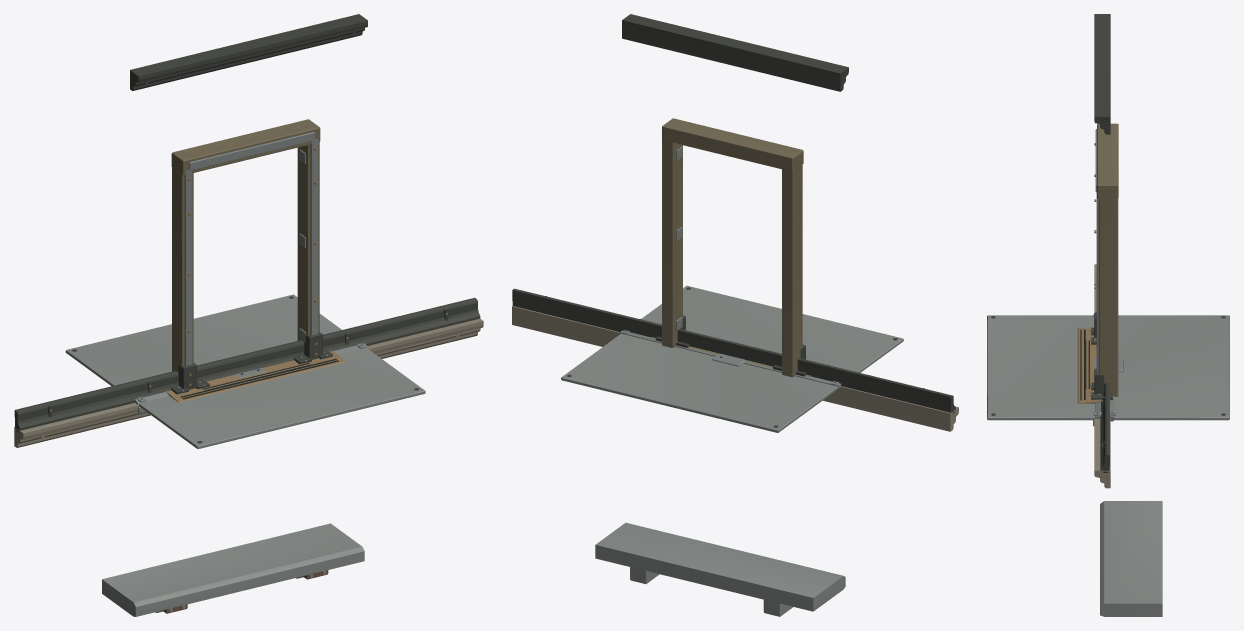
The model's file is junctions-rc29.glb.
3 views of the same model, side by side, from view 1: azimuth 30°, elevation 25°; view 2: azimuth 150°, elevation 25°; view 3: azimuth 270°, elevation 25° (orthographic). The views are drawn at different scales.
Visible parts, largest first — view 1: RoofCopingBed / Weathered precast, RoofSoffitEdge / Weathered precast, AnnexFireCasing / Old fire-door enamel, BoilerJunction / Old cast iron, AnnexBase / Old cast iron, AnnexFireCasing / Dulled galvanized zinc, AnnexCrown / Painted plaster, LiftApron / Tarnished landing bronze, AnnexFireCasing / Old cast iron, LiftApron / Rubber compressible joint; view 2: RoofCopingBed / Weathered precast, AnnexFireCasing / Old fire-door enamel, RoofSoffitEdge / Weathered precast, BoilerJunction / Old cast iron, AnnexBase / Old cast iron, AnnexCrown / Painted plaster, RoofCoping / Dulled galvanized zinc; view 3: RoofCopingBed / Weathered precast, RoofSoffitEdge / Weathered precast, AnnexFireCasing / Old fire-door enamel, BoilerJunction / Old cast iron, LiftApron / Tarnished landing bronze, AnnexBase / Old cast iron, AnnexCrown / Painted plaster, AnnexFireCasing / Dulled galvanized zinc.
Boxes of the visible parts, left/top/right/bottom form: RoofCopingBed / Weathered precast: left=65, top=294, right=425, bottom=448; RoofSoffitEdge / Weathered precast: left=102, top=523, right=364, bottom=616; AnnexFireCasing / Old fire-door enamel: left=171, top=119, right=320, bottom=373; BoilerJunction / Old cast iron: left=130, top=14, right=367, bottom=398; AnnexBase / Old cast iron: left=14, top=297, right=480, bottom=430; AnnexFireCasing / Dulled galvanized zinc: left=184, top=132, right=318, bottom=365; AnnexCrown / Painted plaster: left=14, top=318, right=483, bottom=447; LiftApron / Tarnished landing bronze: left=166, top=351, right=345, bottom=402; AnnexFireCasing / Old cast iron: left=178, top=332, right=322, bottom=389; LiftApron / Rubber compressible joint: left=180, top=358, right=338, bottom=399; RoofCopingBed / Weathered precast: left=561, top=285, right=903, bottom=432; AnnexFireCasing / Old fire-door enamel: left=662, top=118, right=803, bottom=377; RoofSoffitEdge / Weathered precast: left=595, top=522, right=845, bottom=616; BoilerJunction / Old cast iron: left=622, top=14, right=848, bottom=383; AnnexBase / Old cast iron: left=512, top=288, right=955, bottom=412; AnnexCrown / Painted plaster: left=512, top=306, right=958, bottom=431; RoofCoping / Dulled galvanized zinc: left=619, top=330, right=841, bottom=388; RoofCopingBed / Weathered precast: left=987, top=315, right=1229, bottom=420; RoofSoffitEdge / Weathered precast: left=1100, top=501, right=1162, bottom=616; AnnexFireCasing / Old fire-door enamel: left=1097, top=123, right=1118, bottom=396; BoilerJunction / Old cast iron: left=1094, top=14, right=1110, bottom=407; LiftApron / Tarnished landing bronze: left=1077, top=327, right=1111, bottom=403; AnnexBase / Old cast iron: left=1100, top=382, right=1109, bottom=470; AnnexCrown / Painted plaster: left=1094, top=264, right=1110, bottom=488; AnnexFireCasing / Dulled galvanized zinc: left=1095, top=129, right=1098, bottom=373.
Bounding box in the file's own units: 4.78 × 5.56 × 2.38.
